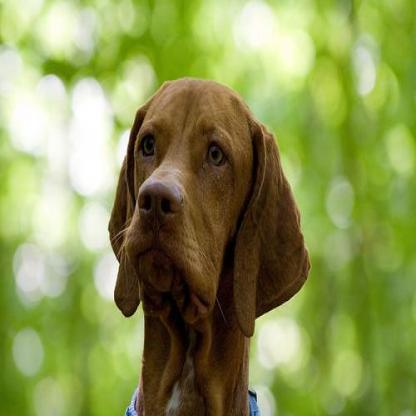vizsla: (106, 73, 310, 414)
